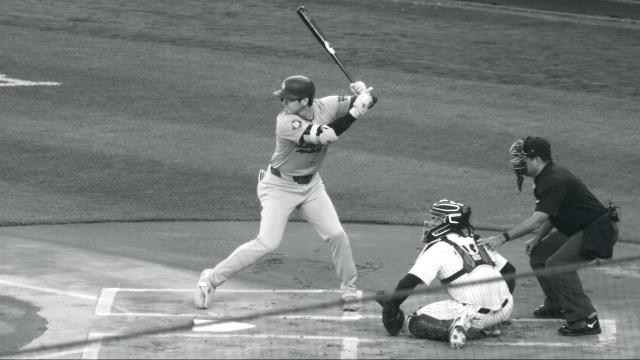bat: (296, 5, 356, 83)
